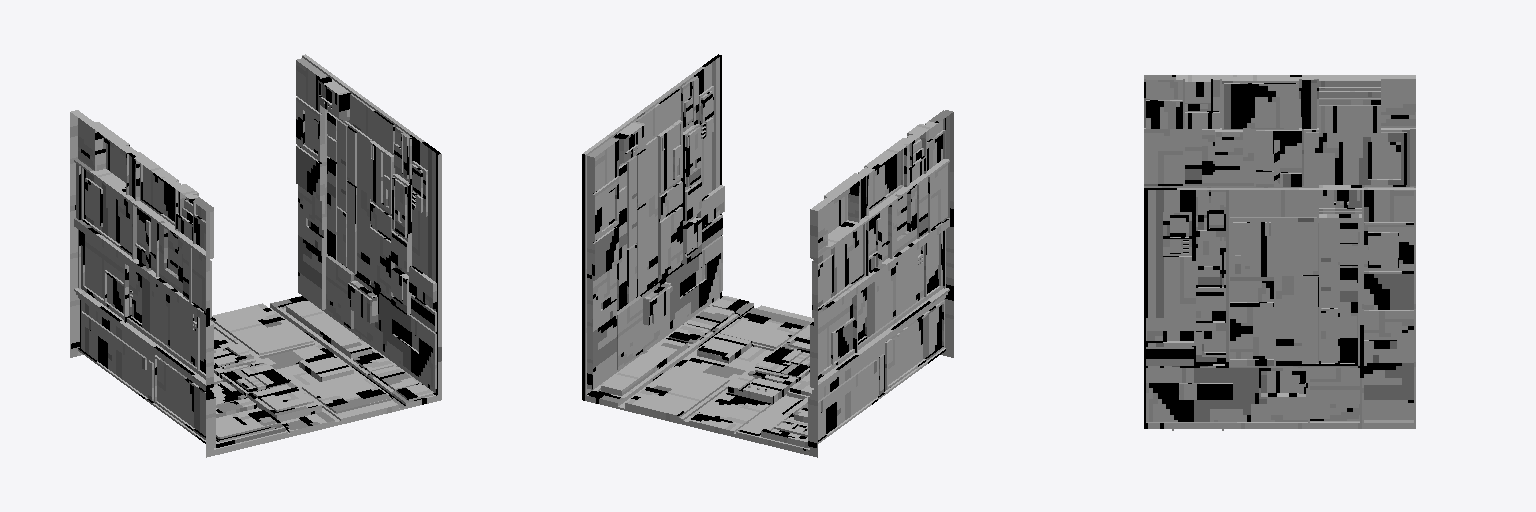
3 renders of one model, left to right at view 1: azimuth 30°, elevation 25°; view 2: azimuth 150°, elevation 25°; view 3: azimuth 270°, elevation 25°, orthographic.
Parts seen in each view (by area): view 1: trench_1_Plane-tex; view 2: trench_1_Plane-tex; view 3: trench_1_Plane-tex.
Part boxes in pixels (bbox=[...]): trench_1_Plane-tex: bbox=[70, 54, 441, 457]; trench_1_Plane-tex: bbox=[582, 54, 953, 457]; trench_1_Plane-tex: bbox=[1144, 75, 1415, 430].
Bounding box in the file's own units: 12.6 × 12.6 × 12.6.
1 materials, 1 textured.